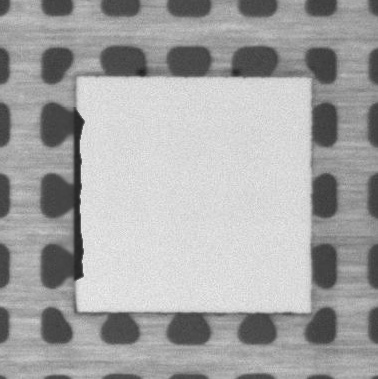DIE_BROKEN: (71, 111, 87, 288)
